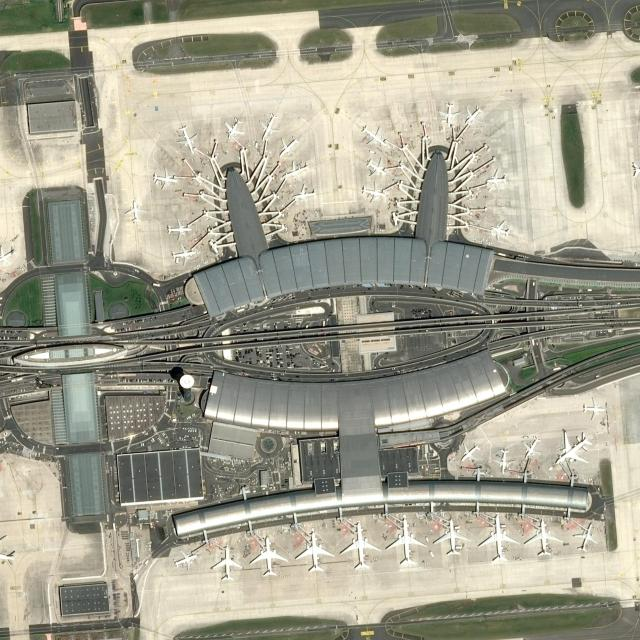1: (0, 541, 18, 568), (0, 243, 19, 268), (631, 160, 640, 180)
aircraft: (339, 521, 382, 570), (386, 518, 427, 566), (479, 514, 519, 562), (294, 530, 334, 573), (248, 536, 288, 577), (432, 516, 471, 556), (524, 518, 564, 556), (554, 430, 594, 466), (210, 543, 244, 581), (572, 520, 598, 554), (175, 124, 198, 154), (258, 110, 280, 141), (151, 166, 177, 190), (580, 397, 606, 421), (492, 447, 516, 473), (282, 160, 310, 182), (361, 123, 386, 147), (165, 219, 192, 241), (124, 198, 148, 222), (361, 180, 386, 203), (277, 134, 300, 158), (222, 116, 245, 140), (485, 167, 507, 191), (290, 184, 316, 204), (170, 245, 196, 265), (522, 434, 542, 460), (172, 550, 198, 570), (365, 156, 388, 178), (459, 441, 481, 464), (439, 101, 460, 125), (489, 218, 510, 241), (464, 105, 482, 125)
